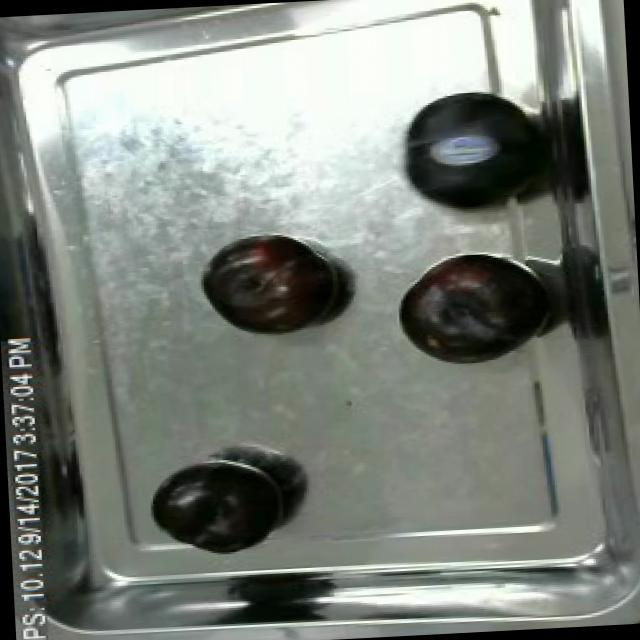Fruit: (390, 76, 551, 222), (391, 248, 553, 370), (194, 228, 348, 344), (138, 450, 295, 560)
